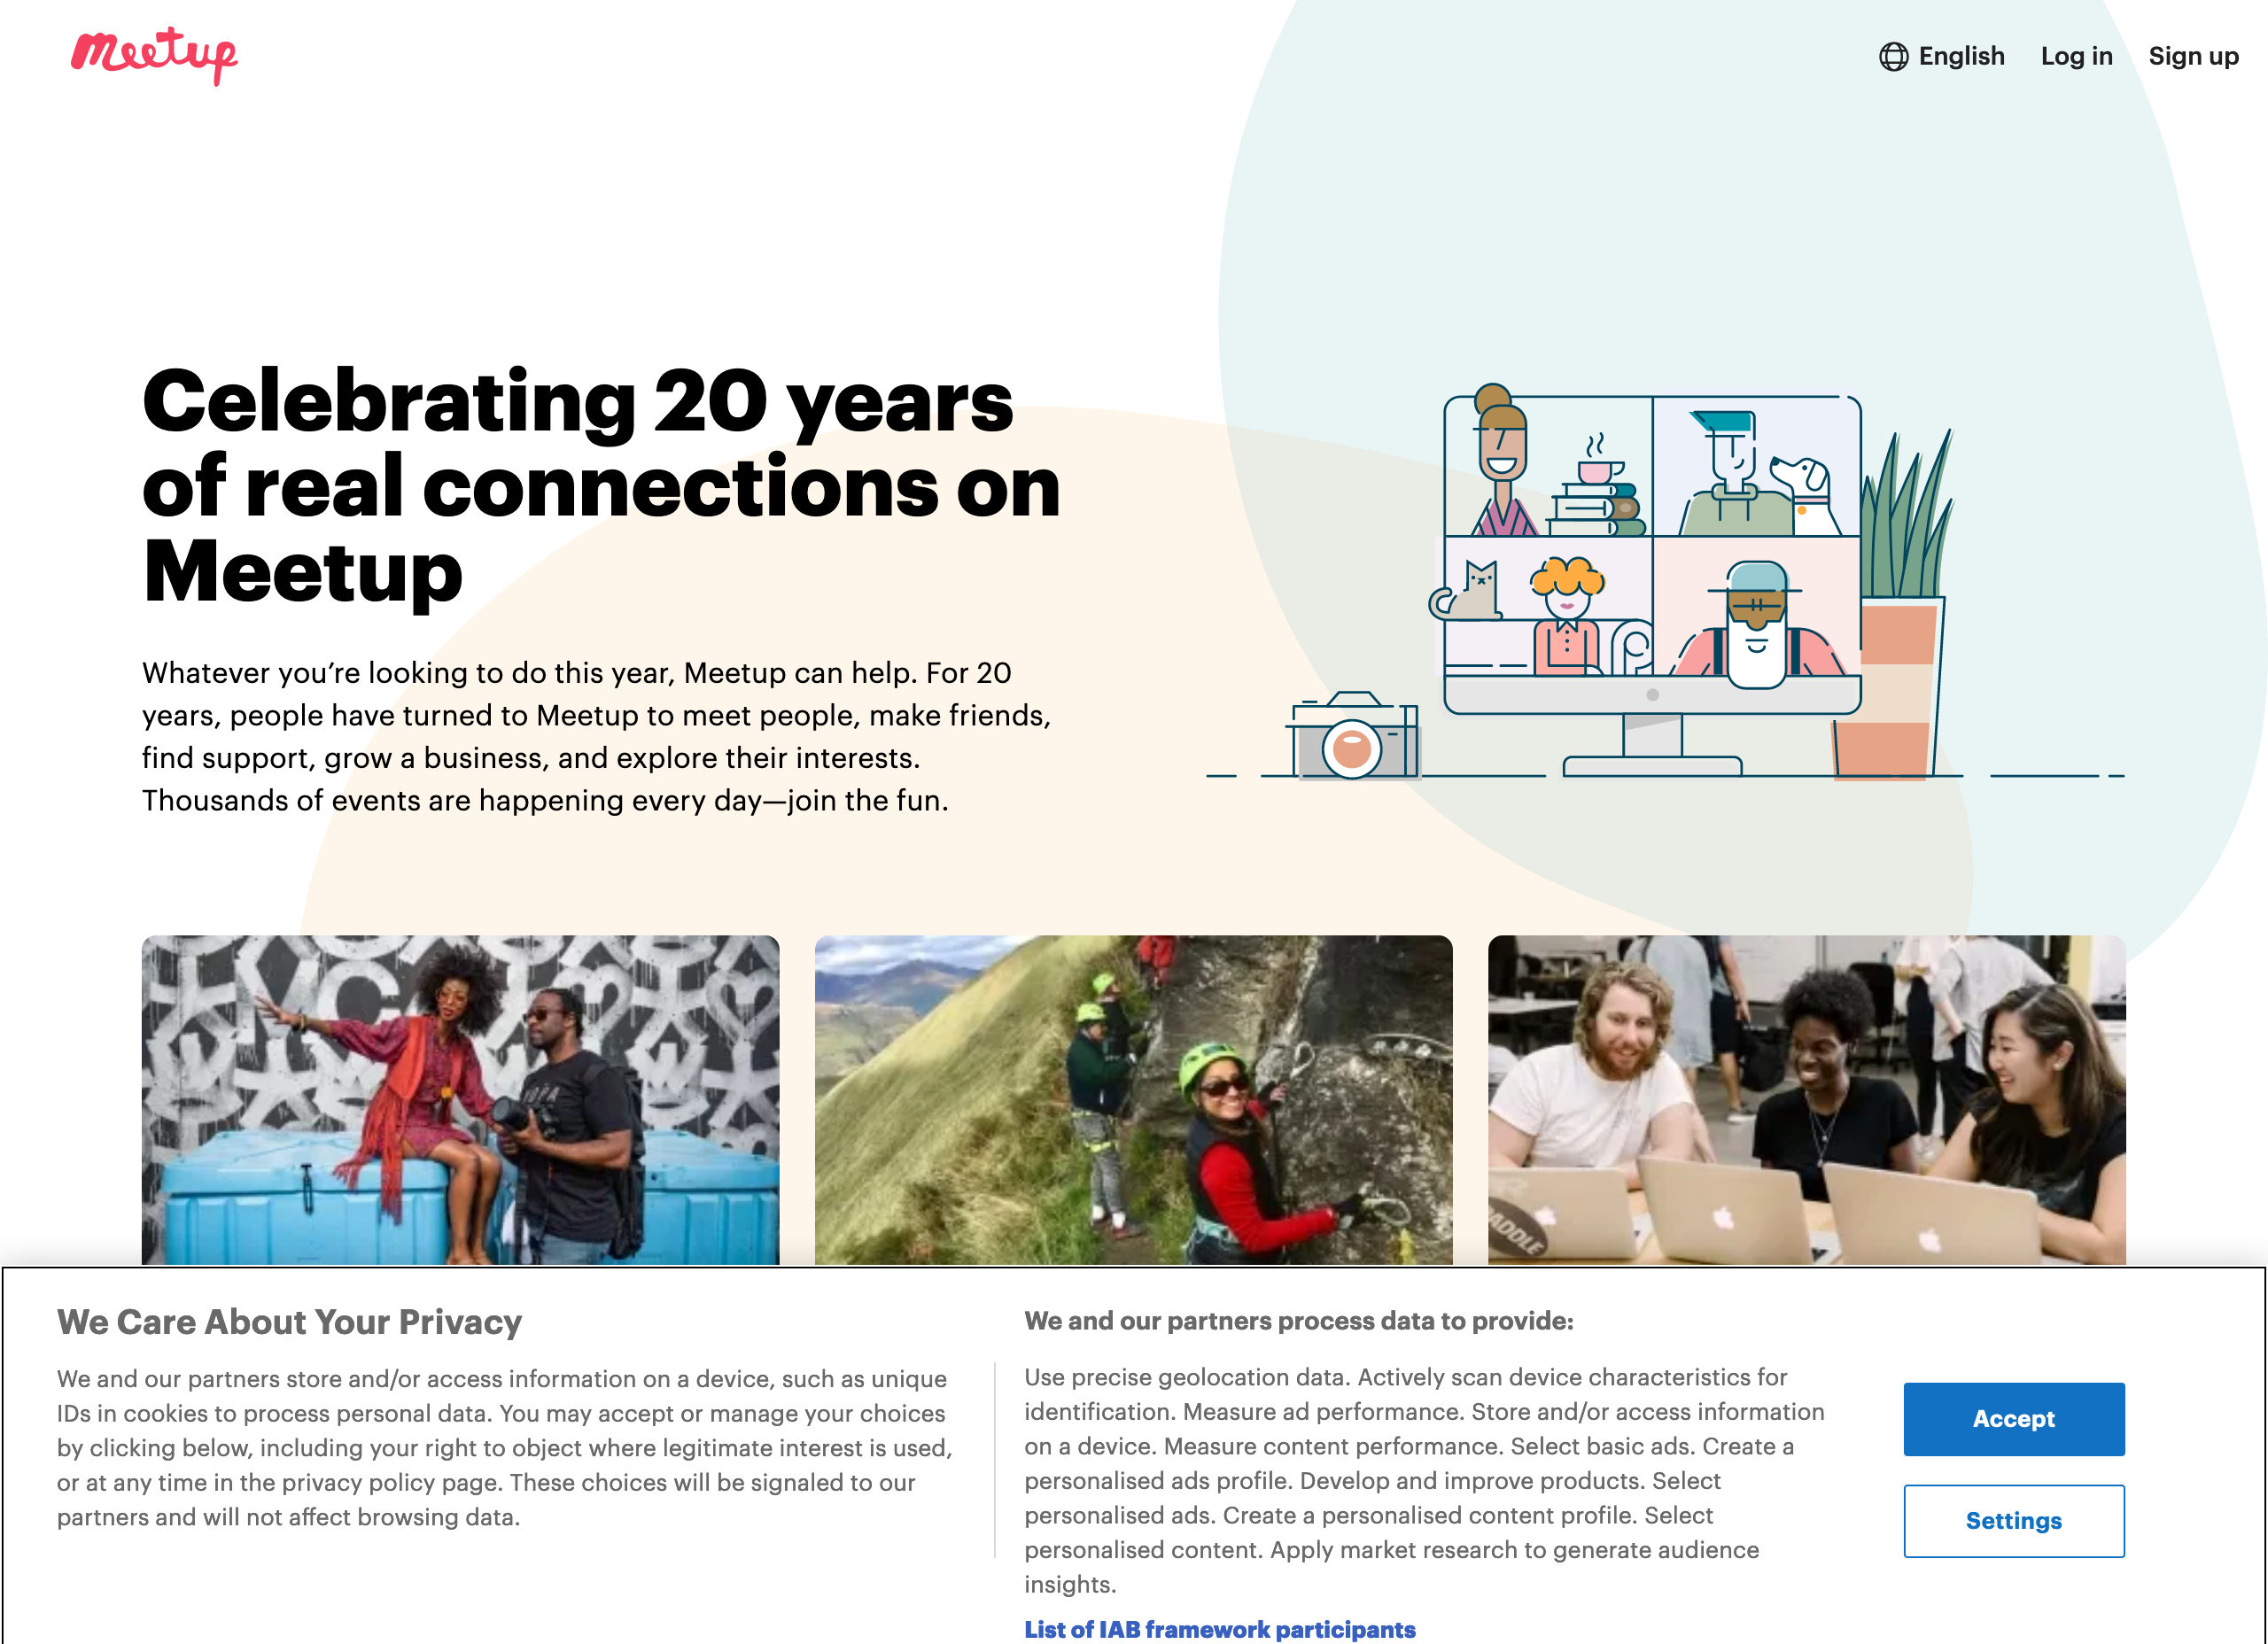Login: (2018, 14, 2129, 86)
